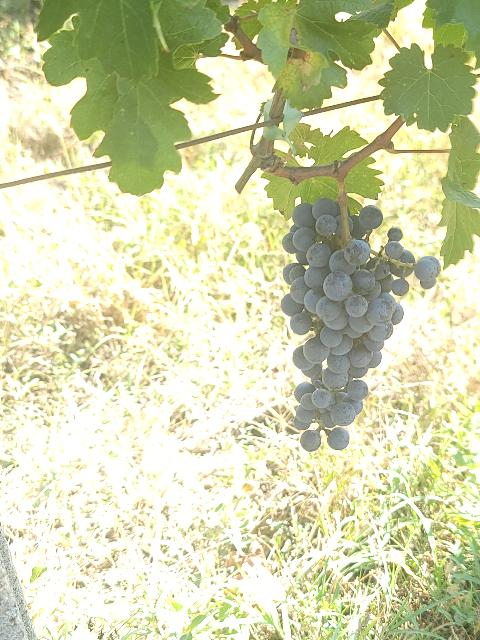grapes: (281, 198, 440, 451)
